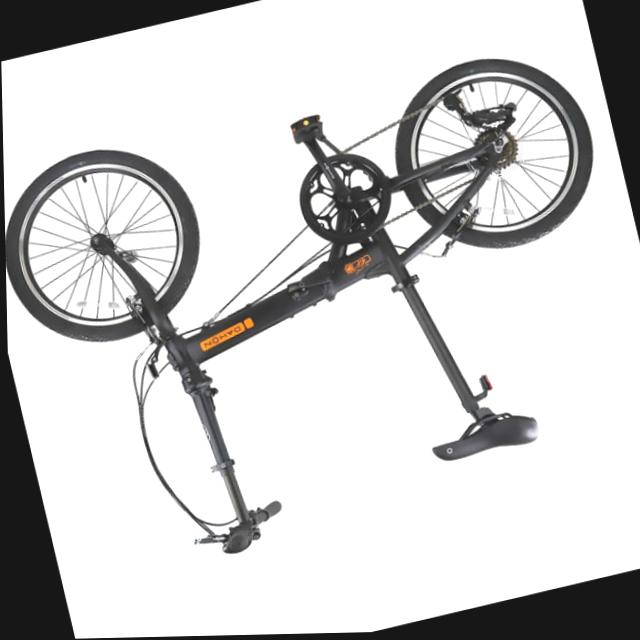folding-bike: (1, 35, 640, 594)
